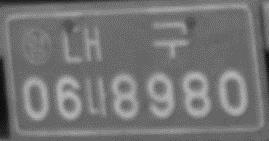0: (217, 69, 250, 117), (21, 75, 50, 122)
6: (55, 74, 84, 120)
8: (180, 71, 212, 118), (112, 72, 139, 121)
9: (146, 70, 176, 119)
나: (82, 75, 110, 119)
대구_D: (61, 20, 190, 64)
영: (20, 28, 54, 65)
